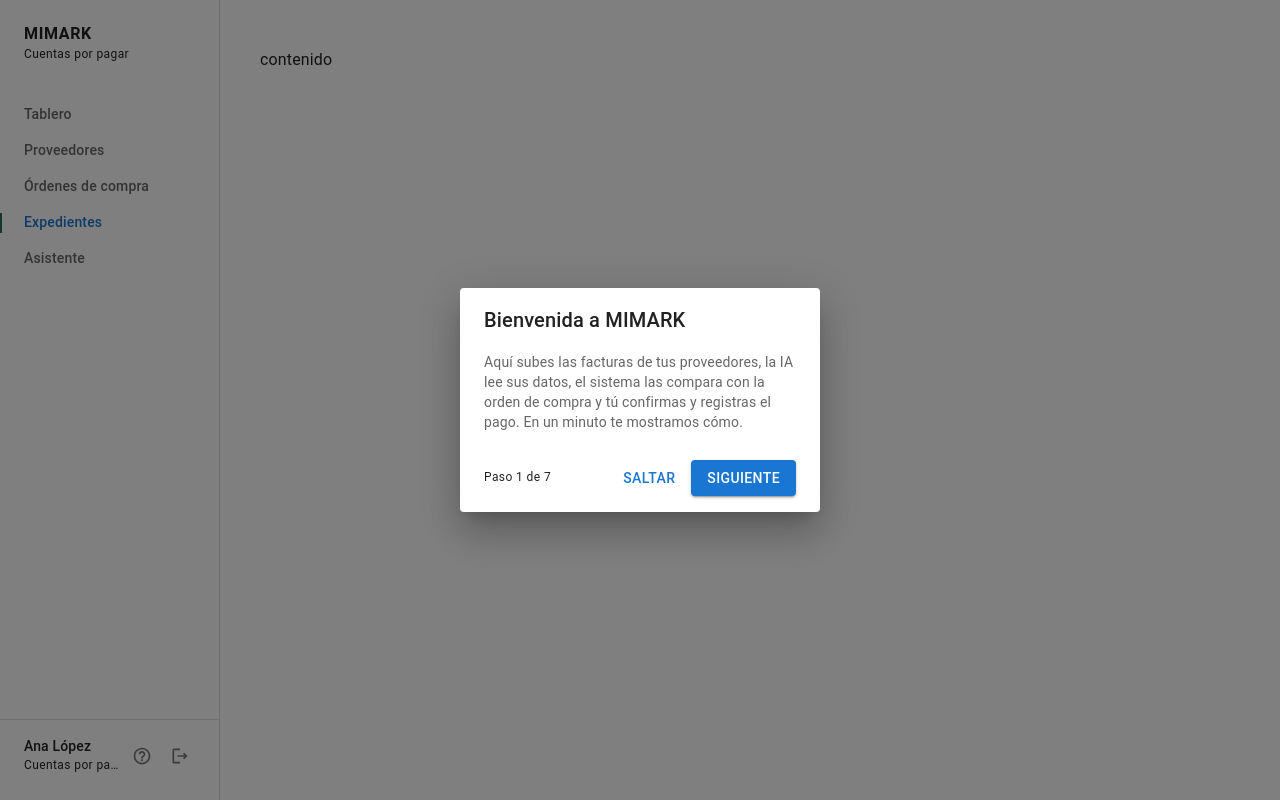
Scenario: AppShell › AC-012-01 la primera vez el tutorial se abre solo y al saltarlo no vuelve a abrirse
The image size is (1280, 800).
Expected: the dialog "Bienvenida a MIMARK" is shown, [460,288,820,512]
Click the button "Saltar" at (649, 478), box [615,460,683,496]
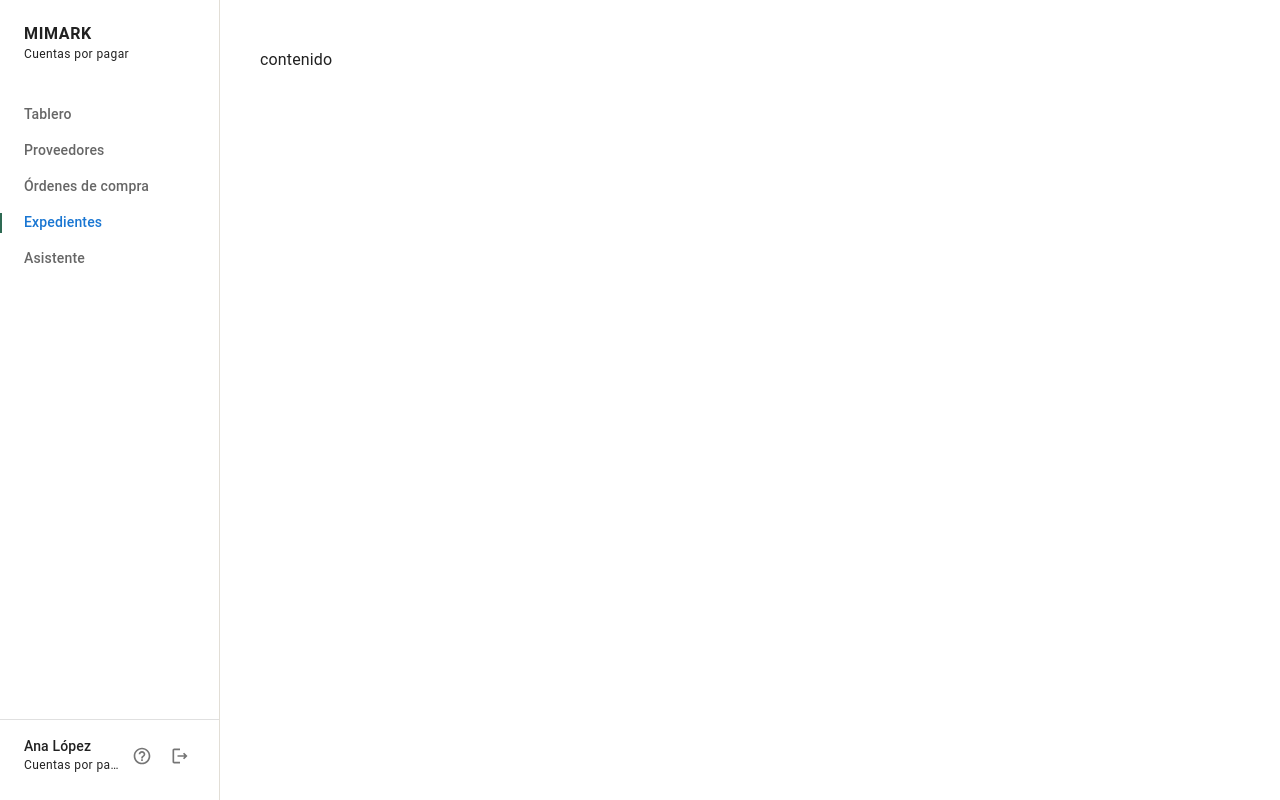
Now the dialog is gone
